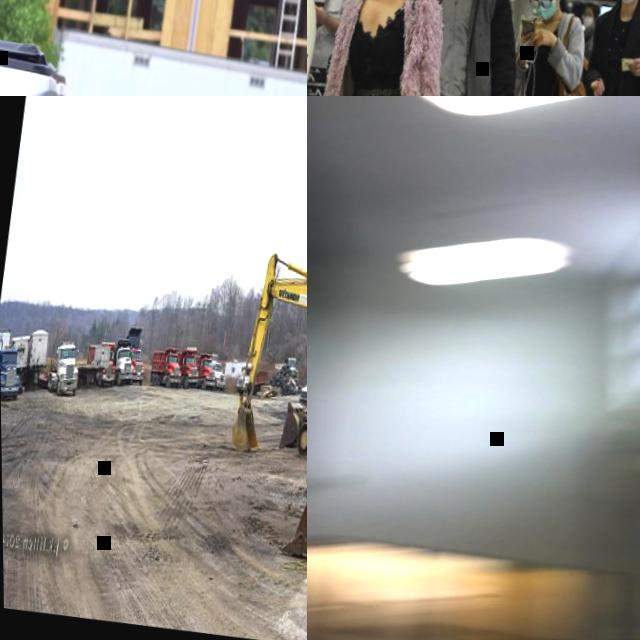Mask: (530, 0, 557, 26), (580, 15, 595, 31), (614, 0, 640, 7)
NO-Safety Vest: (335, 0, 432, 96), (414, 0, 497, 96), (582, 0, 640, 96), (521, 15, 579, 96), (307, 0, 348, 67)
Person: (370, 0, 543, 96), (307, 0, 478, 96), (471, 0, 601, 96), (548, 0, 640, 96), (307, 0, 352, 70), (575, 6, 600, 70)
vehicle: (225, 250, 307, 472), (0, 0, 153, 96), (34, 335, 83, 401), (0, 326, 25, 403), (119, 326, 150, 387), (147, 344, 184, 391), (108, 337, 138, 389), (171, 345, 201, 391), (234, 364, 268, 399), (94, 341, 118, 386), (190, 353, 217, 392), (205, 352, 228, 391), (272, 357, 299, 385), (297, 372, 307, 406)
